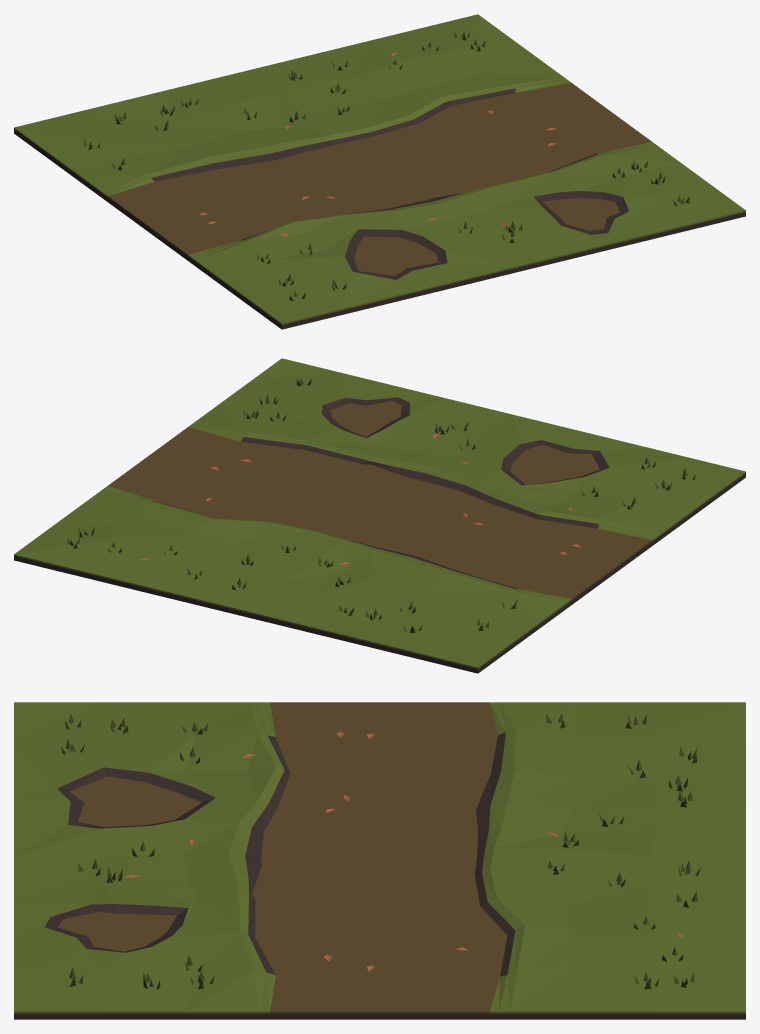
The model's file is cemetery-lawn-tile-5c12ca.glb.
3 renders of one model, top to bottom at view 1: azimuth 30°, elevation 25°; view 2: azimuth 150°, elevation 25°; view 3: azimuth 270°, elevation 25°, orthographic. The views are drawn at different scales.
Visible parts, largest first — view 1: lawn; view 2: lawn; view 3: lawn.
Part boxes in pixels (x1=…): lawn: x1=14, y1=14, x2=745, y2=329; lawn: x1=14, y1=358, x2=745, y2=673; lawn: x1=14, y1=702, x2=745, y2=1019.
Bounding box in the file's own units: 4 × 0.115 × 4.
